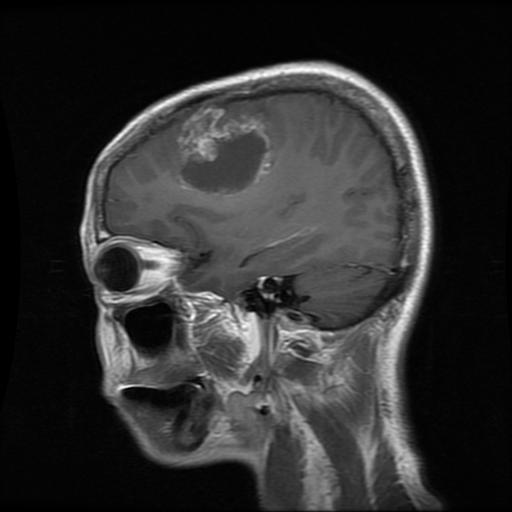Gliomia_tumour: (179, 108, 267, 193)
